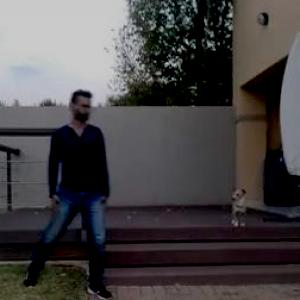follow: (43, 90, 102, 280)
